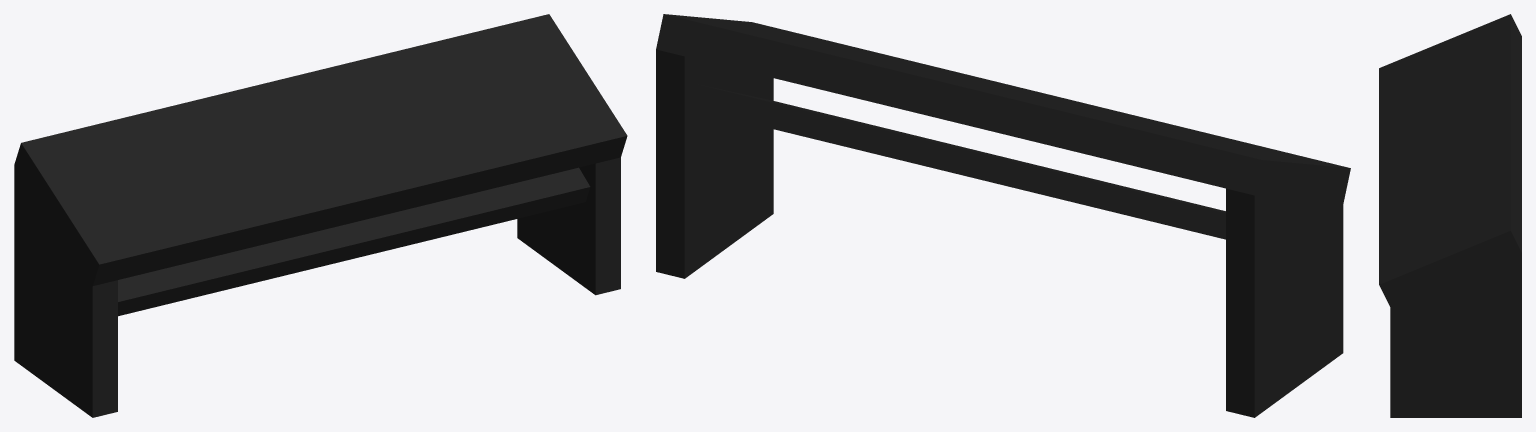
File: spoiler1.glb
3 renders of one model, left to right at view 1: azimuth 30°, elevation 25°; view 2: azimuth 150°, elevation 25°; view 3: azimuth 270°, elevation 25°, orthographic. The views are drawn at different scales.
Parts seen in each view (by area): view 1: spoiler1; view 2: spoiler1; view 3: spoiler1.
Boxes of the visible parts, x1,y1,x2,y2 form: spoiler1: (14,14,627,417); spoiler1: (656,14,1350,417); spoiler1: (1379,14,1521,417).
Bounding box in the file's own units: 1.4 × 0.5659 × 0.3913.
1 material, 1 textured.
